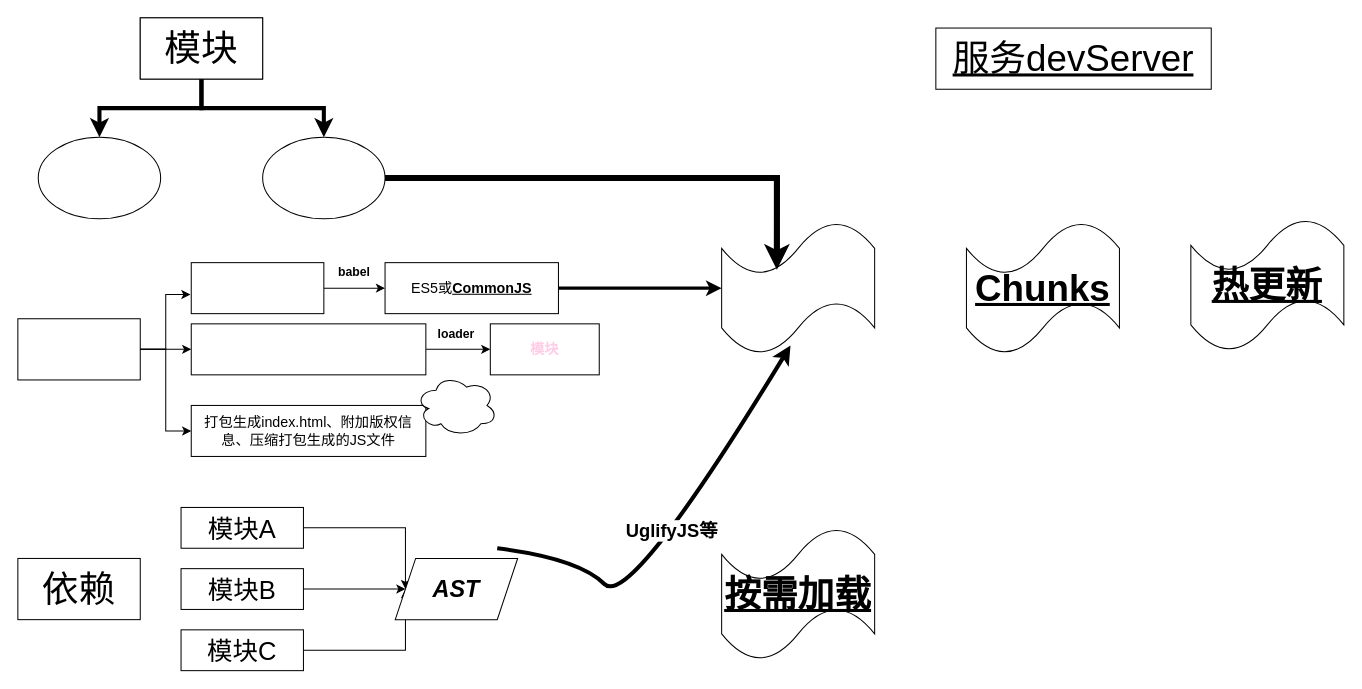
This 1362x689 diagram has some shape labels left out. Here are the shapes that lost their labels. From the top down, the box of each, then its label:
(37, 136, 161, 219): CommonJS
(262, 136, 385, 219): ES6(推荐)
(190, 262, 324, 314): ES6、CommonJS
(721, 221, 875, 354): 摇树
(17, 318, 140, 380): 打包
(190, 323, 426, 375): png、vue、less、glb或gltf等
(415, 374, 497, 436): Plugin
